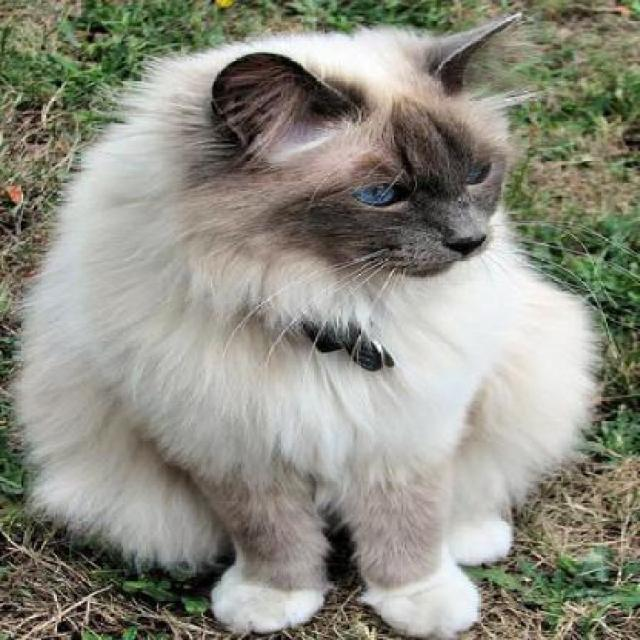cat: (11, 12, 594, 636)
